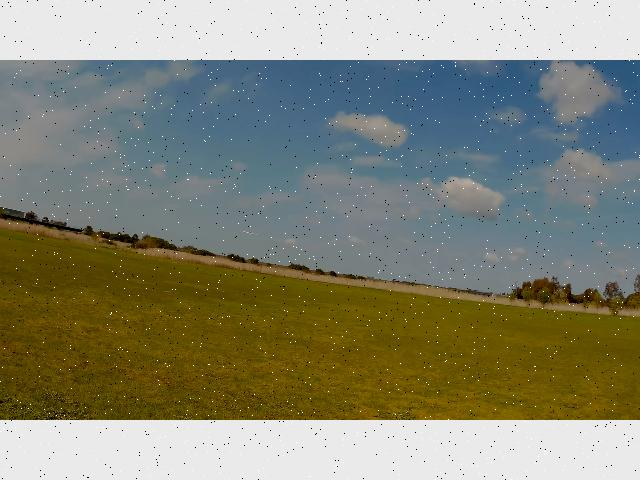Anti-Drone: (244, 231, 258, 235)
